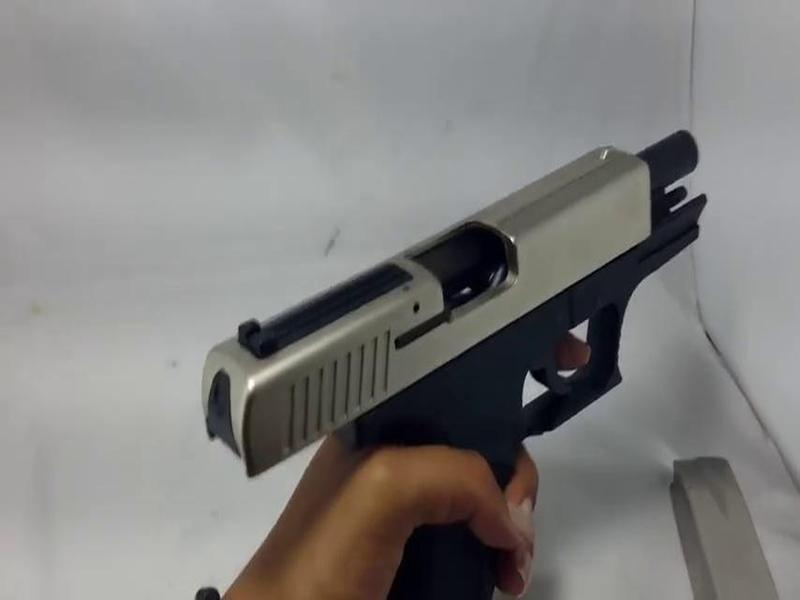Pistola: (192, 130, 714, 585)
